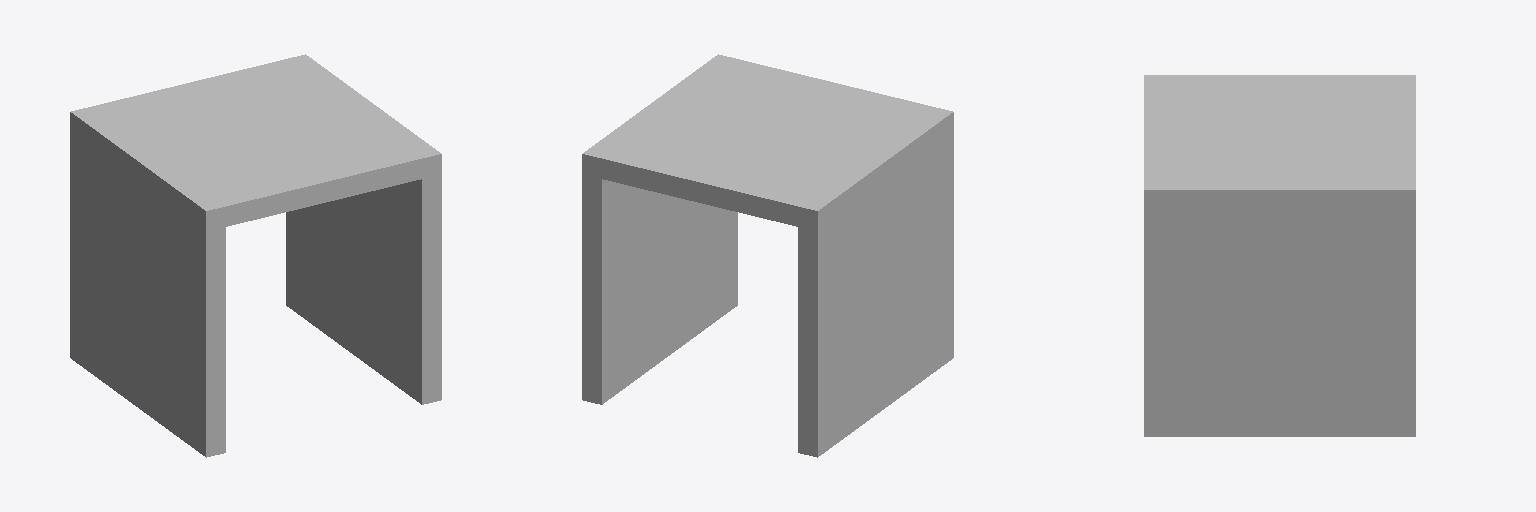
The model's file is tabouret_dark_wood.obj.
3 views of the same model, side by side, from view 1: azimuth 30°, elevation 25°; view 2: azimuth 150°, elevation 25°; view 3: azimuth 270°, elevation 25° (orthographic).
Parts seen in each view (by area): view 1: cube.002; view 2: cube.002; view 3: cube.002.
Boxes of the visible parts, x1=… form: cube.002: x1=70, y1=54, x2=441, y2=457; cube.002: x1=582, y1=54, x2=953, y2=457; cube.002: x1=1144, y1=75, x2=1415, y2=436.
Bounding box in the file's own units: 0.75 × 0.75 × 0.75.